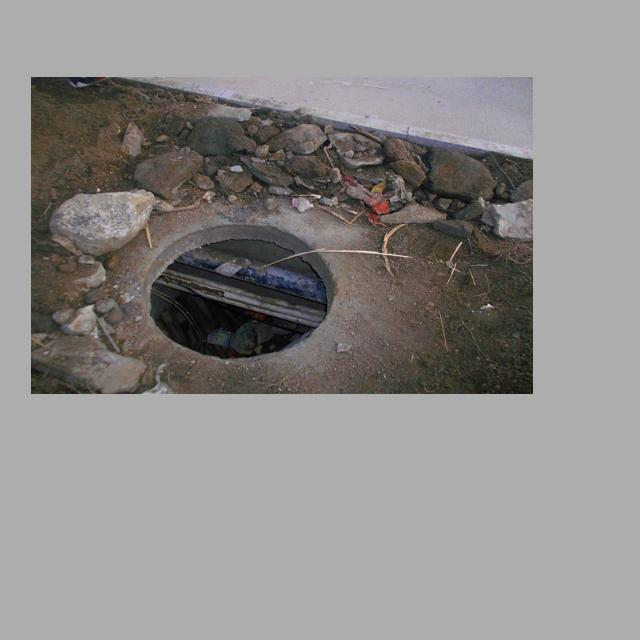lose: (141, 222, 339, 362)
